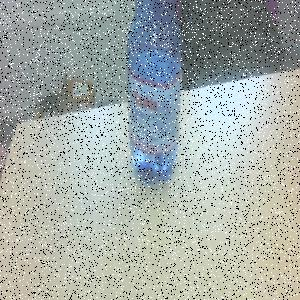Plastic-bottle: (128, 2, 184, 184)
